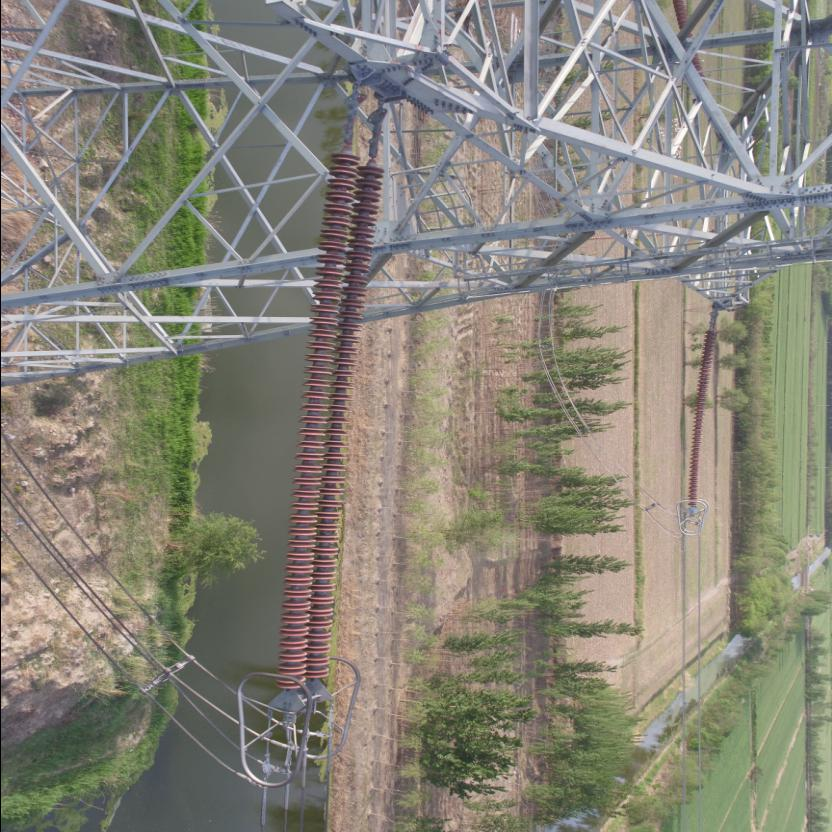insulator: (276, 129, 390, 702), (686, 325, 720, 511)
